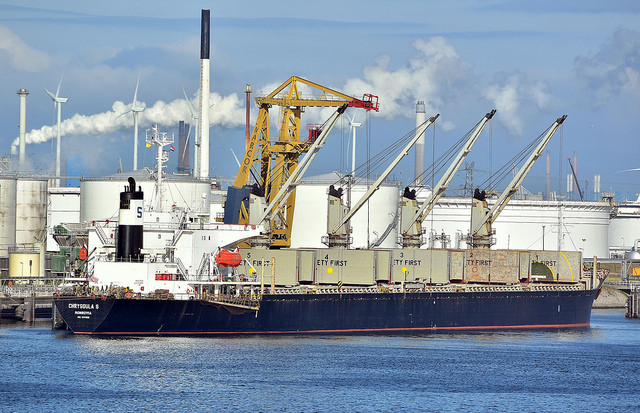bulk carrier: (59, 183, 603, 330)
